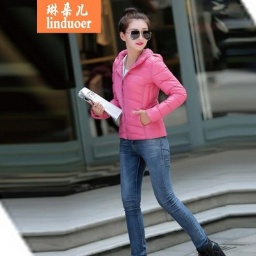face: (117, 7, 151, 55)
